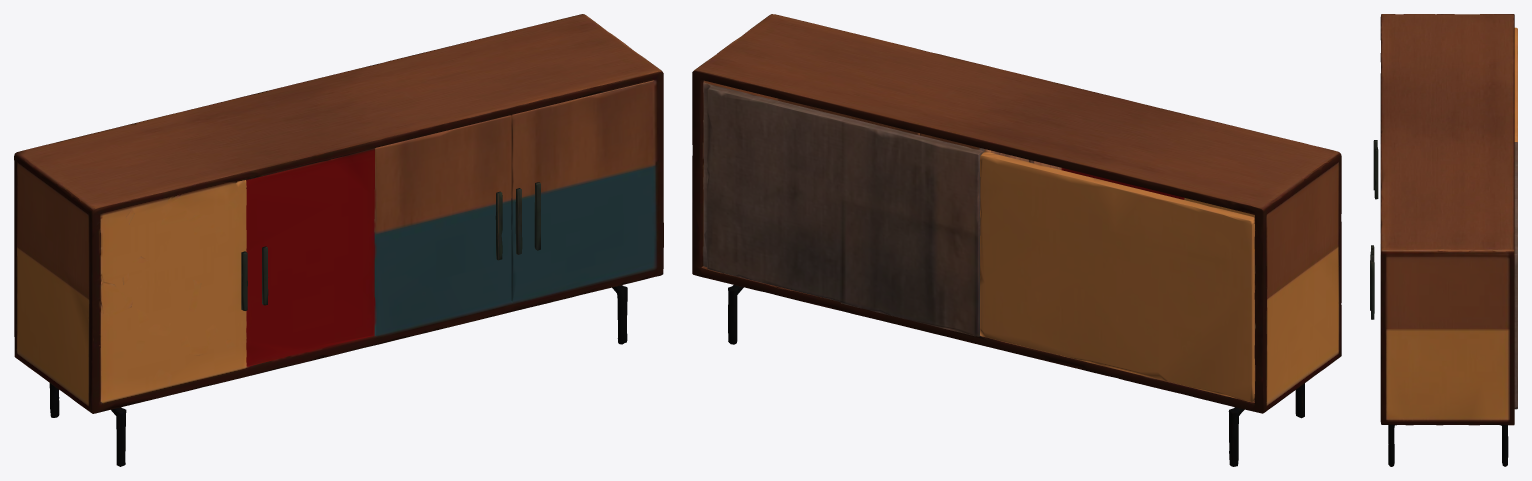
The model's file is bauhaus-sideboard.glb.
3 renders of one model, left to right at view 1: azimuth 30°, elevation 25°; view 2: azimuth 150°, elevation 25°; view 3: azimuth 270°, elevation 25°, orthographic. The views are drawn at different scales.
Parts seen in each view (by area): view 1: world; view 2: world; view 3: world.
Part boxes in pixels (x1,y1,x2,y2): world: (14,14,663,466); world: (692,14,1341,466); world: (1370,14,1517,466).
Size of the model in its own units: 1.6 by 0.72 by 0.42.
1 material, 1 textured.
